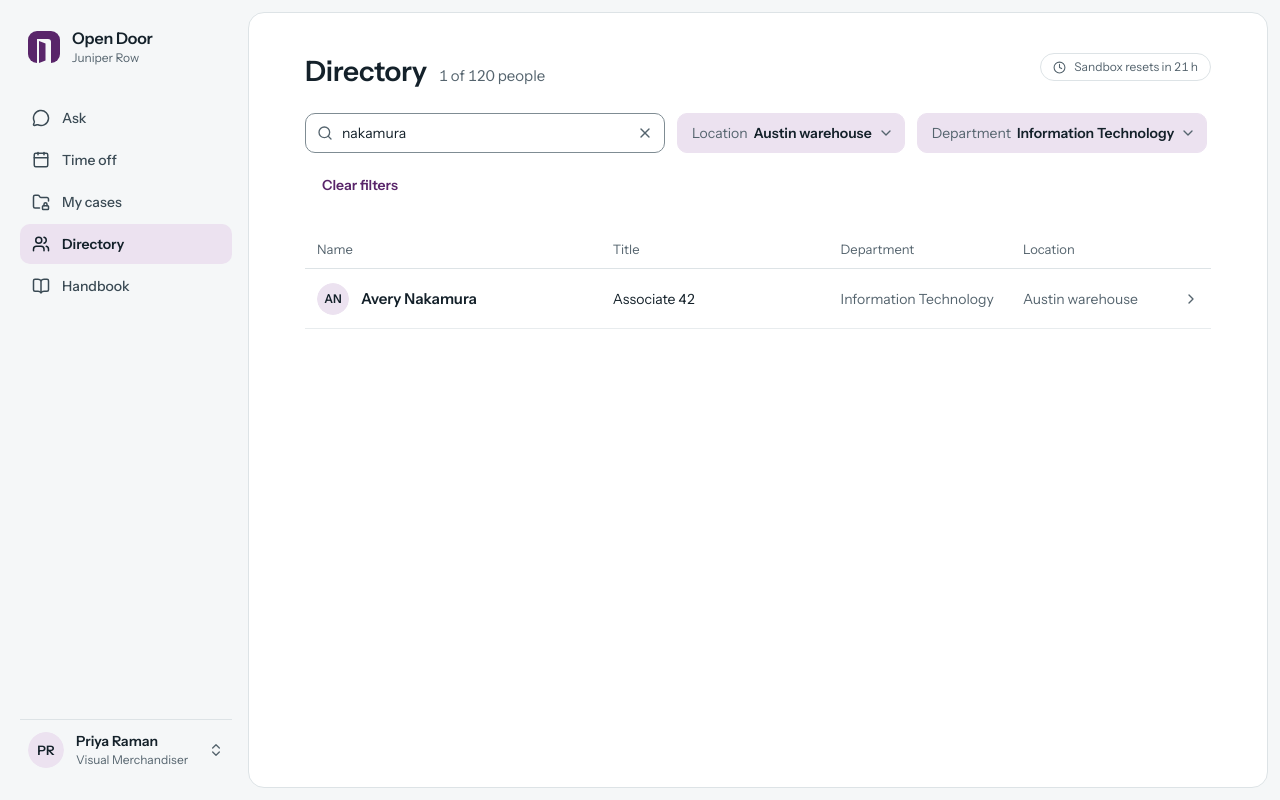
Scenario: "← Directory" › returns to the list with the same search and filters, after clicking a row
The width and height of the screenshot is (1280, 800).
What coordinates should you click on to do the following:
click the link that starts with "Avery Nakamura"
I would click on:
 (333, 298)
Its box is x1=305 y1=269 x2=1211 y2=329.
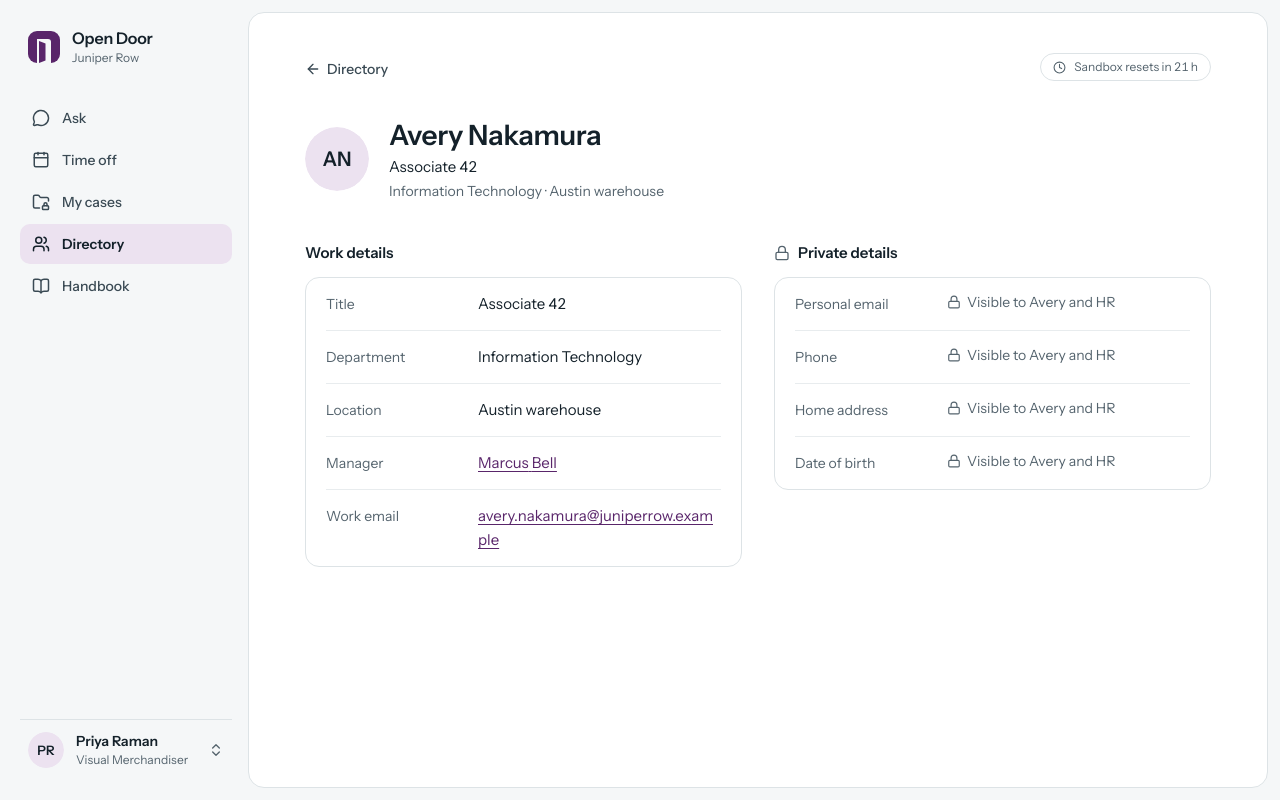
What coordinates should you click on to do the following:
click the link with aria-label "Back to Directory"
I would click on:
 (347, 69)
Its box is x1=305 y1=60 x2=388 y2=78.
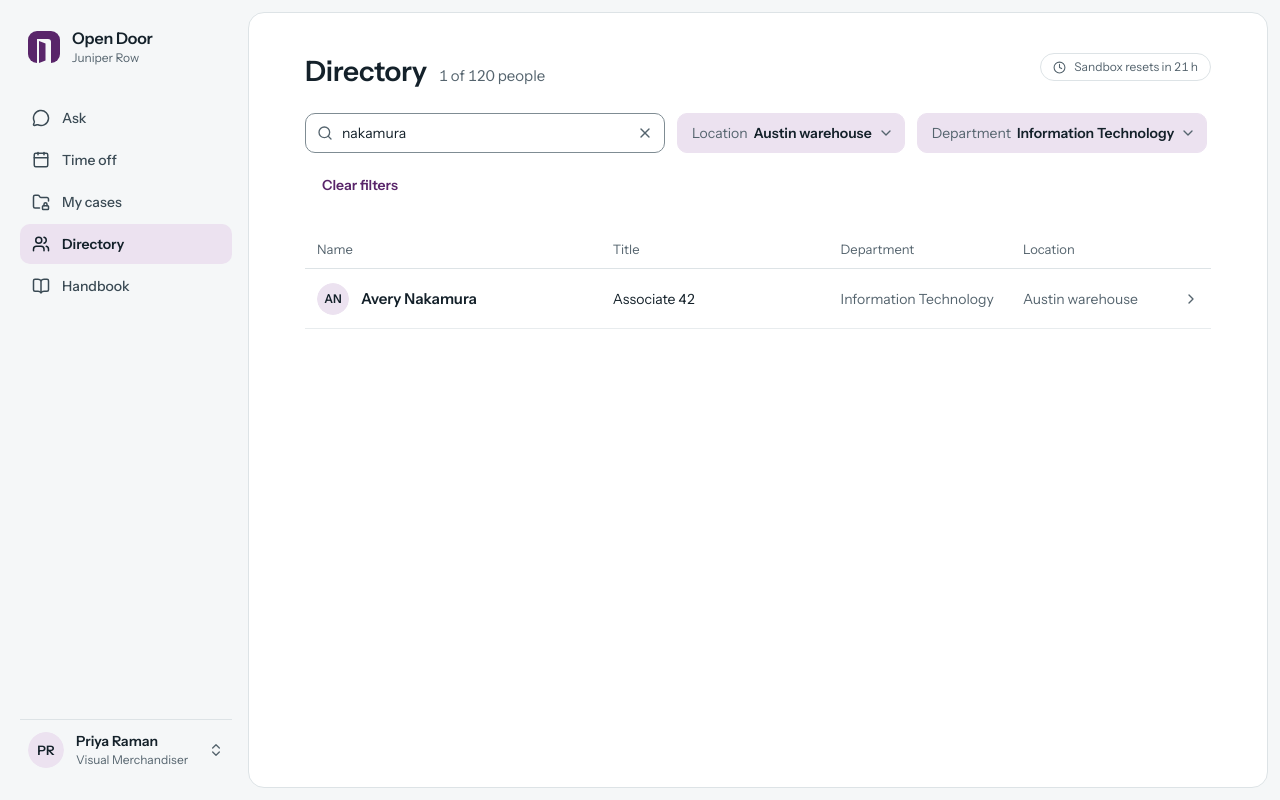
Result: the list named "People" is shown at x1=305 y1=269 x2=1211 y2=329
Result: the search field holds "nakamura" at x1=305 y1=113 x2=665 y2=153
